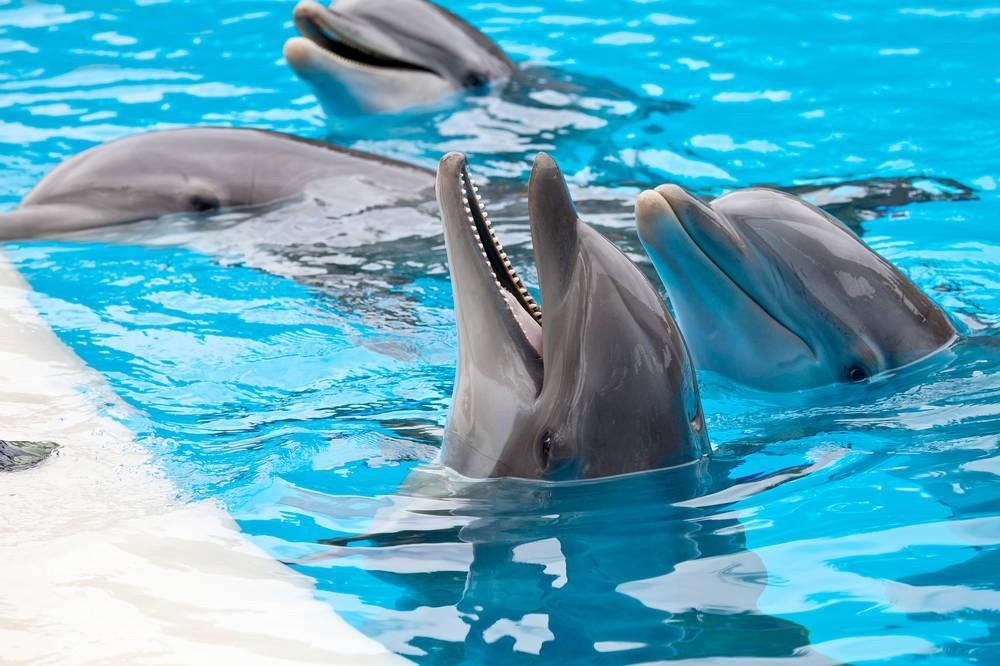fish: (433, 147, 698, 482), (624, 176, 970, 389), (1, 122, 502, 247), (277, 1, 524, 103)
